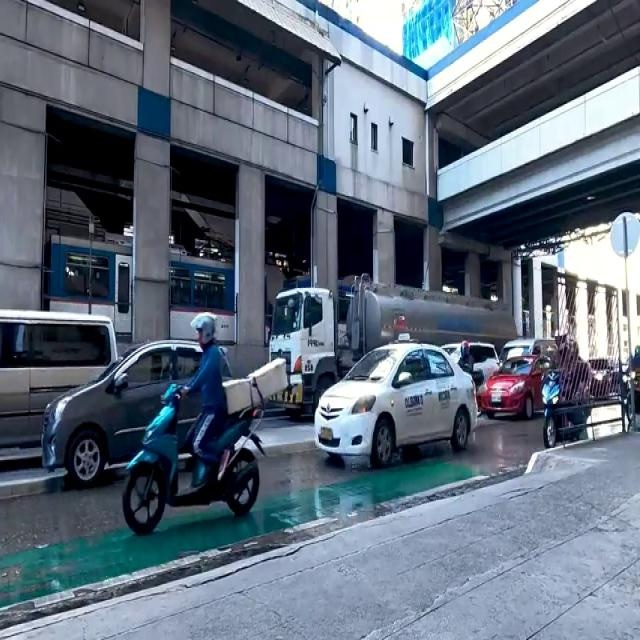car: (41, 330, 207, 492), (316, 344, 472, 473), (0, 306, 111, 452), (483, 353, 546, 415), (489, 359, 542, 415)
motorcycle: (132, 318, 259, 548), (539, 339, 598, 442)
truck: (269, 281, 503, 425)
